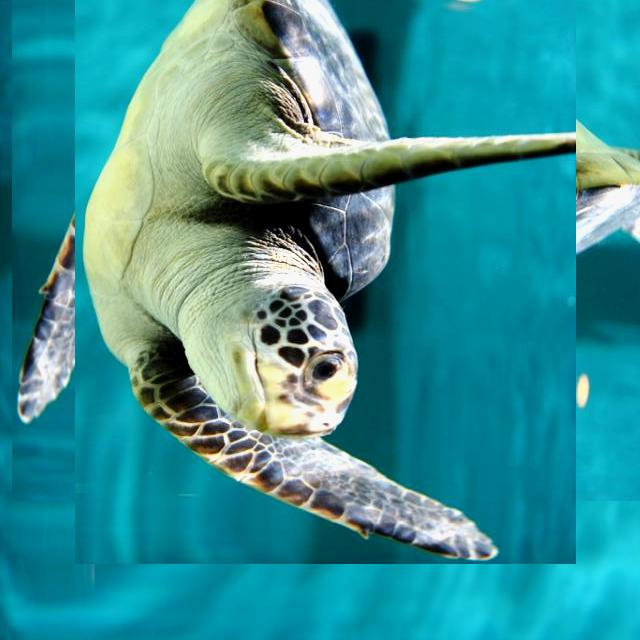Sea turtle: (43, 0, 608, 532)
